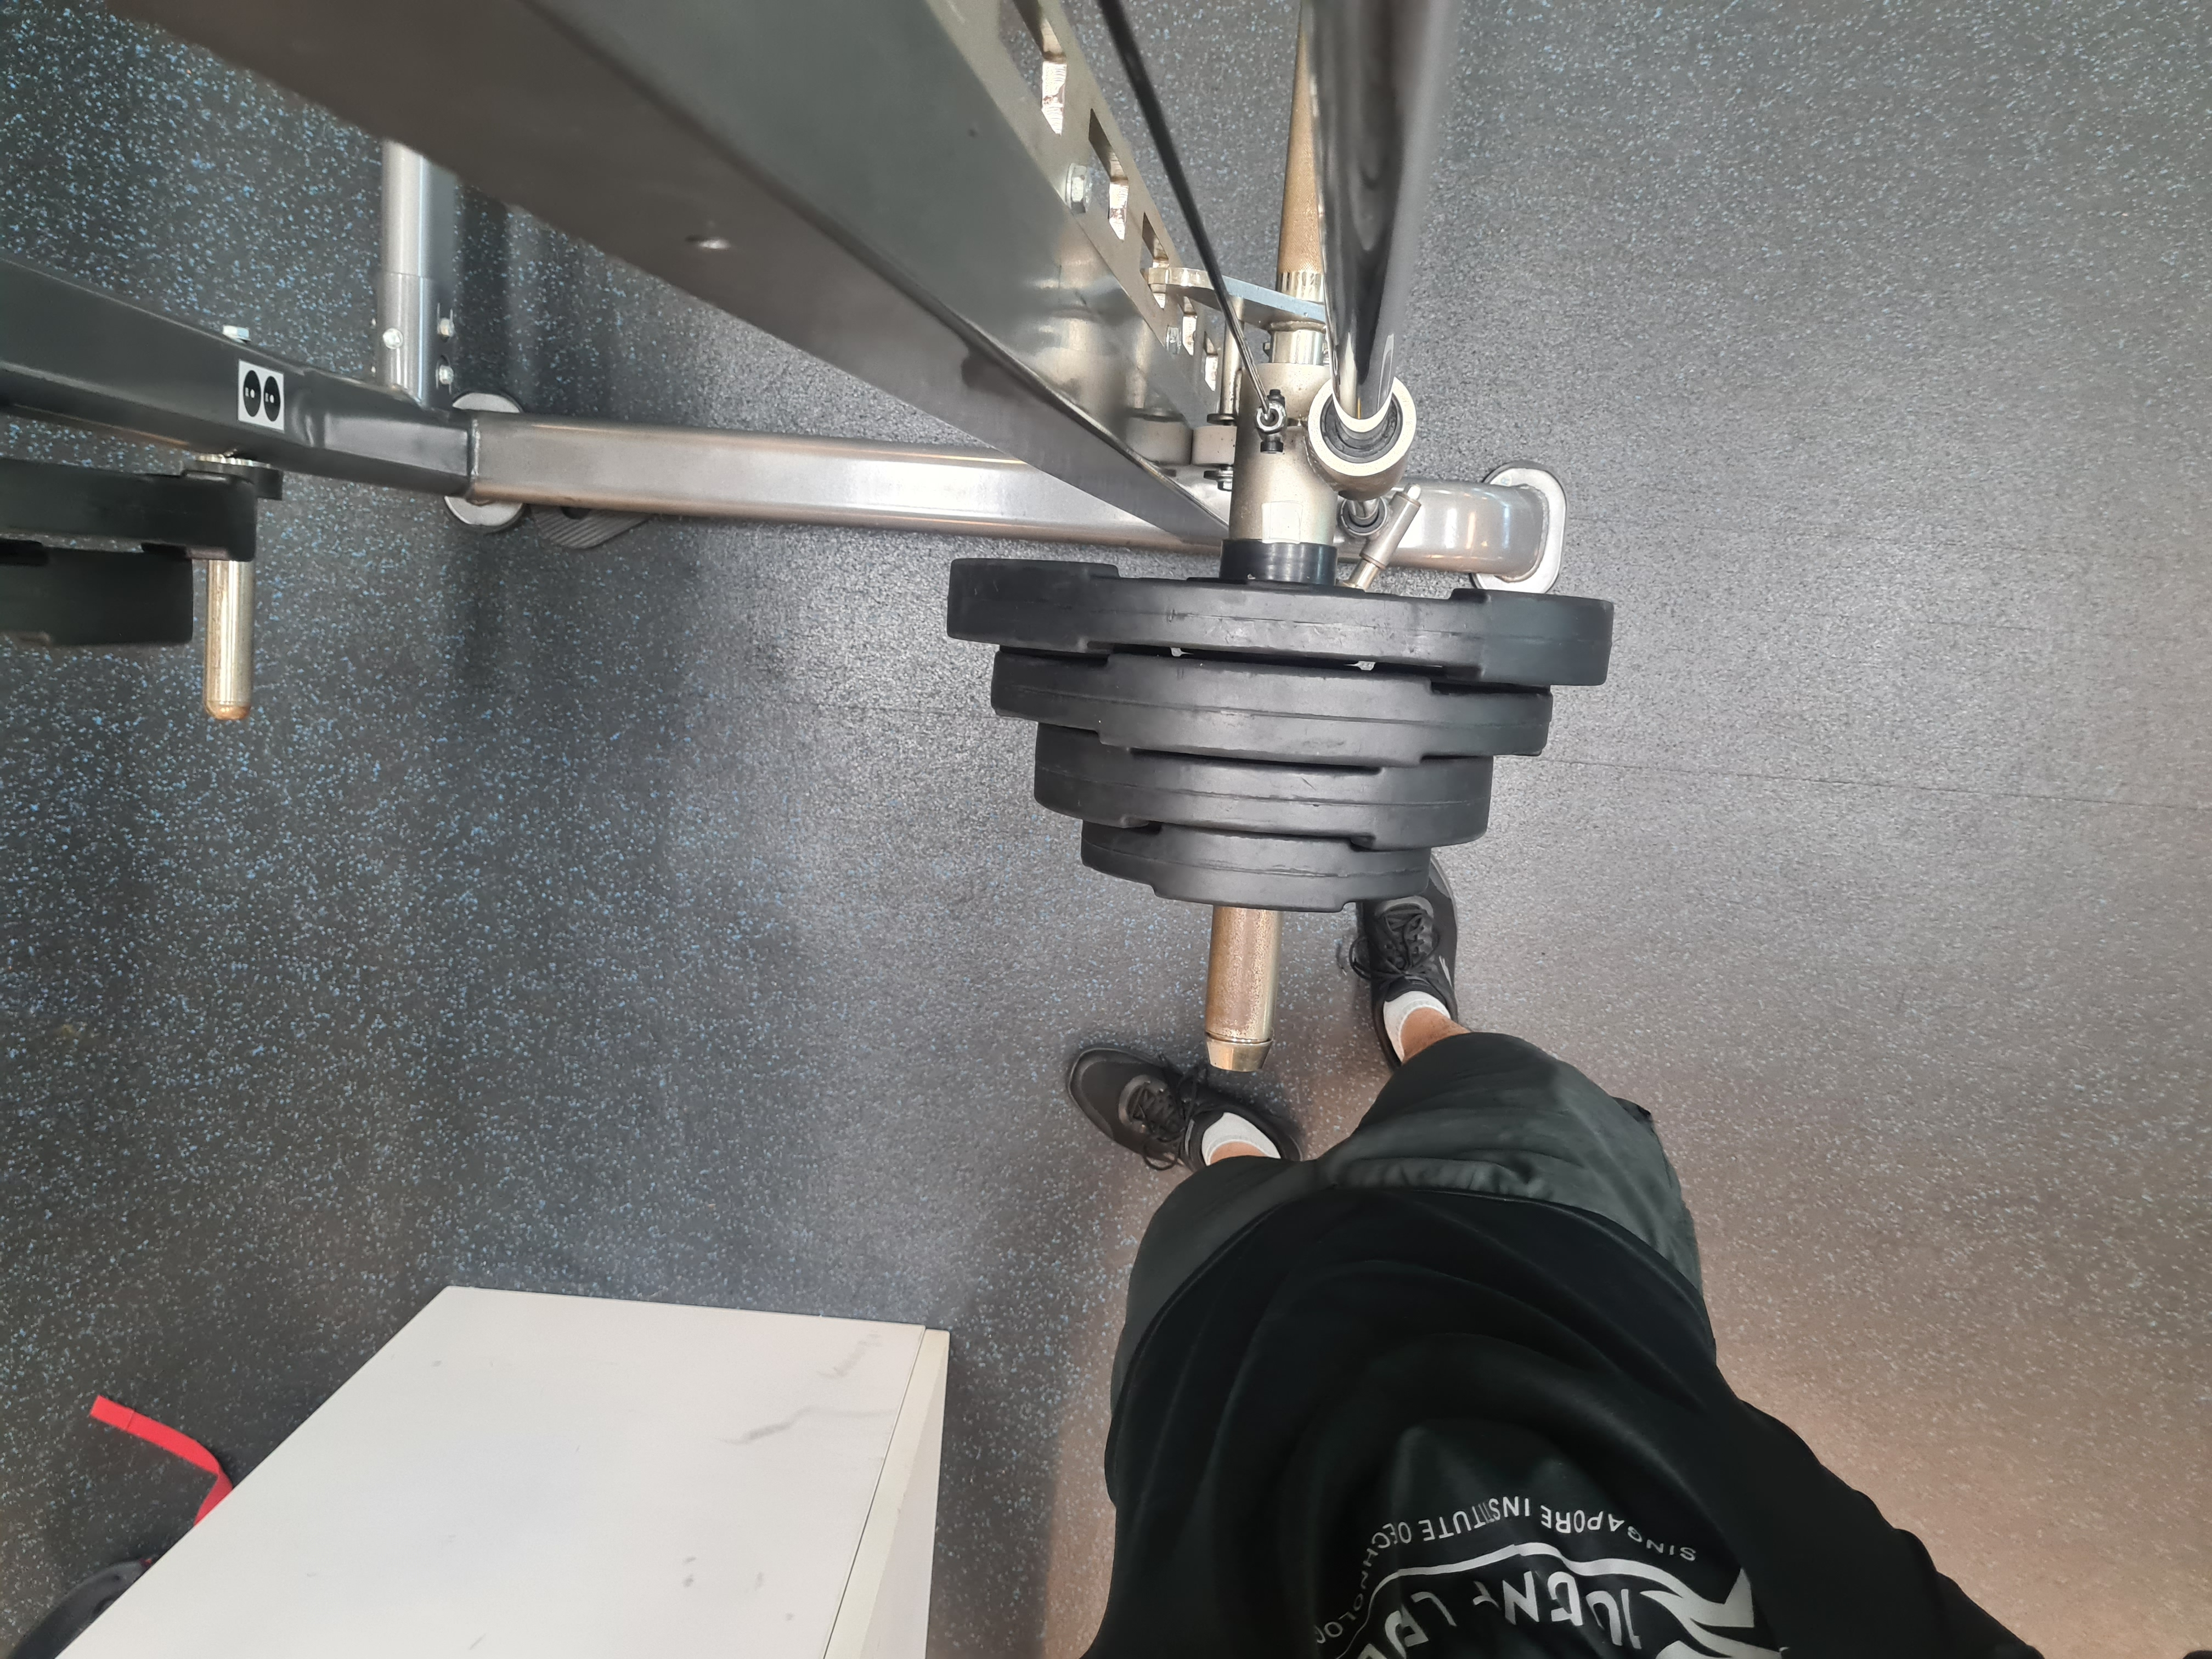weights: (948, 558, 1611, 687), (995, 653, 1550, 772), (1031, 721, 1498, 850), (1078, 823, 1426, 915)
